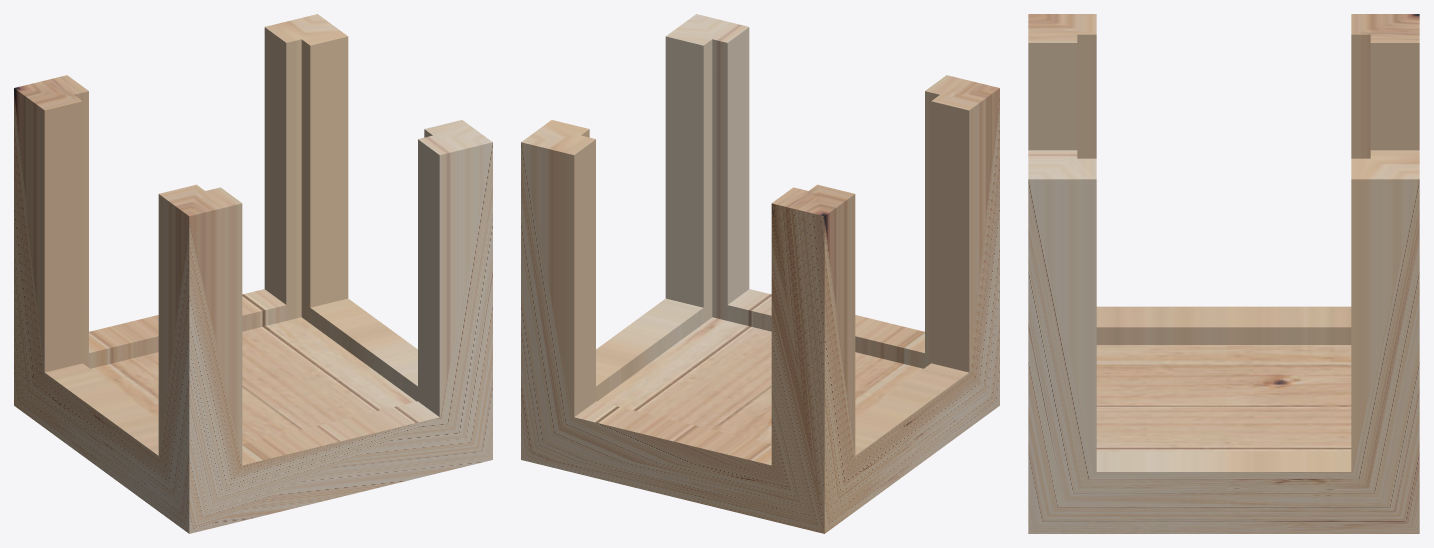
Rendered from TvTable.glb.
3 renders of one model, left to right at view 1: azimuth 30°, elevation 25°; view 2: azimuth 150°, elevation 25°; view 3: azimuth 270°, elevation 25°, orthographic. The views are drawn at different scales.
Visible parts, largest first — view 1: Cube; view 2: Cube; view 3: Cube.
Part boxes in pixels (box(x1,y1,x2,y2)): Cube: box(14, 14, 492, 533); Cube: box(521, 14, 999, 533); Cube: box(1028, 14, 1419, 533).
Bounding box in the file's own units: 2 × 2 × 2.
Materials: 1 (1 with a texture image).
